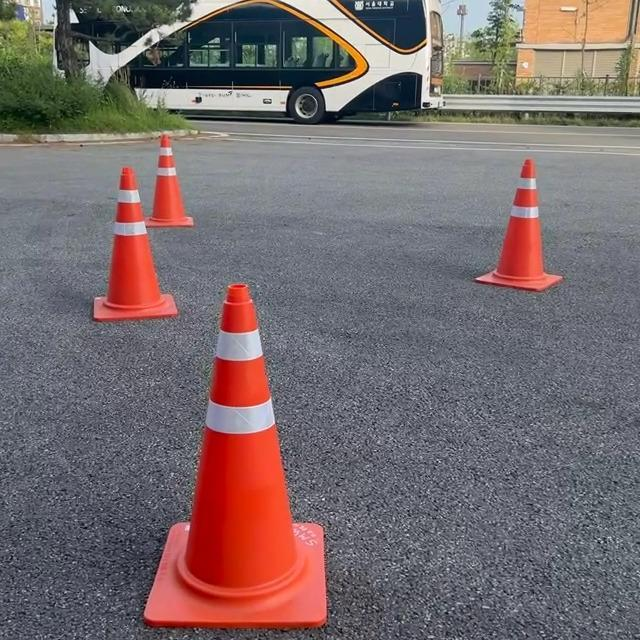fallen_object: (89, 265, 384, 612), (429, 122, 557, 312), (45, 172, 156, 343), (117, 100, 209, 263)
